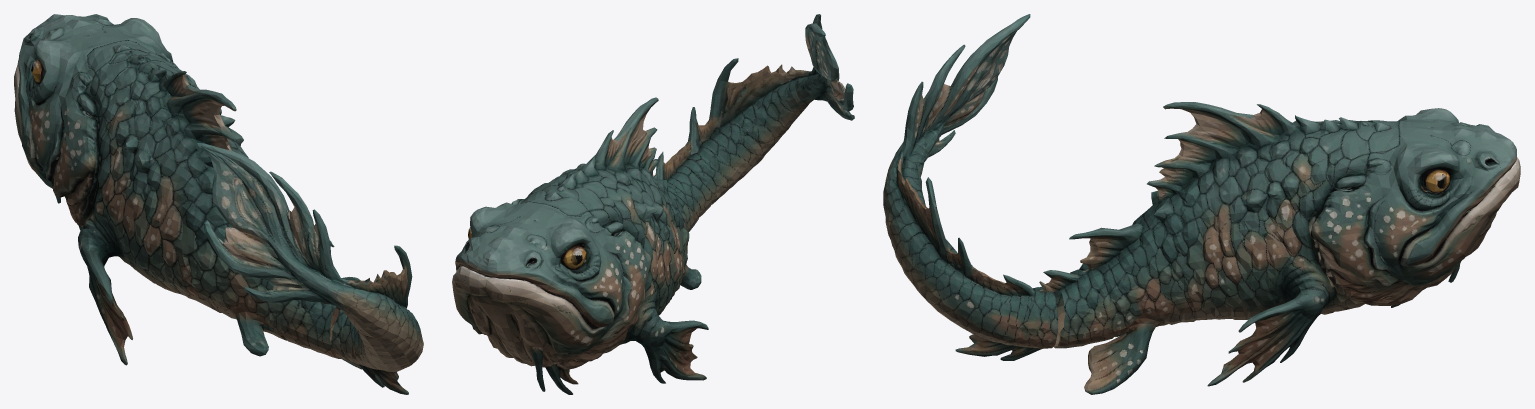
File: Pez.glb
3 views of the same model, side by side, from view 1: azimuth 30°, elevation 25°; view 2: azimuth 150°, elevation 25°; view 3: azimuth 270°, elevation 25° (orthographic). The views are drawn at different scales.
Visible parts, largest first — view 1: tripo_node_b7c20326-a694-412b-843a-906d015fdd16; view 2: tripo_node_b7c20326-a694-412b-843a-906d015fdd16; view 3: tripo_node_b7c20326-a694-412b-843a-906d015fdd16.
Part boxes in pixels (x1=…): tripo_node_b7c20326-a694-412b-843a-906d015fdd16: x1=14, y1=14, x2=423, y2=394; tripo_node_b7c20326-a694-412b-843a-906d015fdd16: x1=452, y1=14, x2=854, y2=394; tripo_node_b7c20326-a694-412b-843a-906d015fdd16: x1=883, y1=14, x2=1520, y2=394.
Bounding box in the file's own units: 0.4051 × 0.501 × 1.
Materials: 1 (1 with a texture image).
